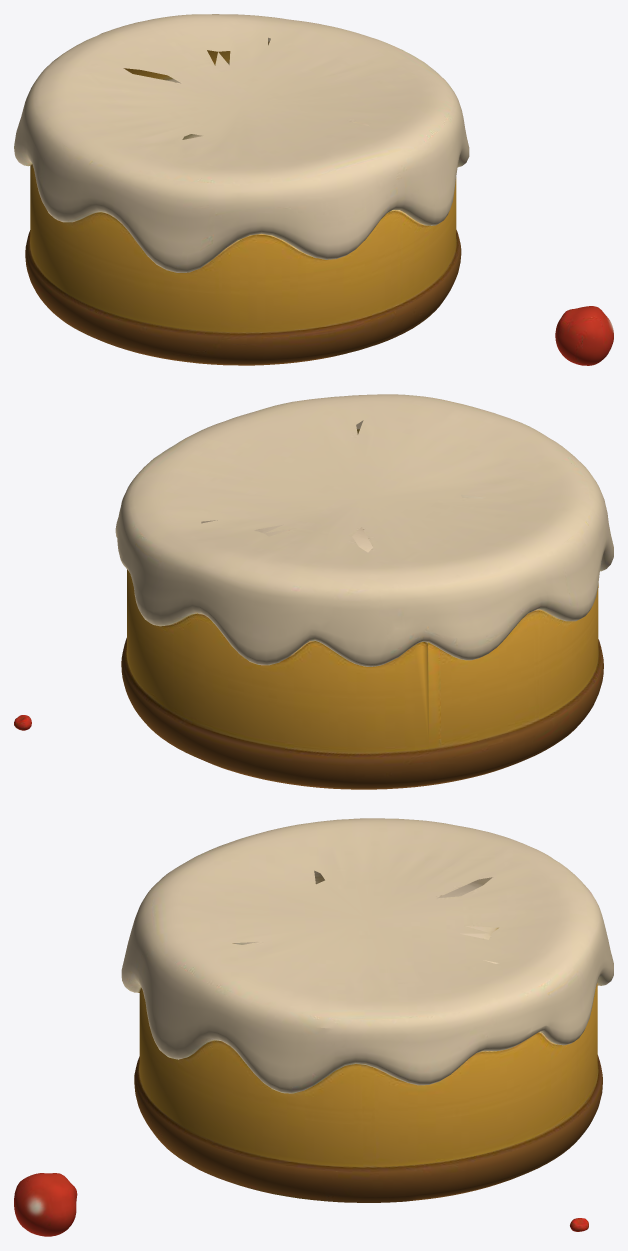
Rendered from env_nest_layer_cake_01.glb.
3 views of the same model, one above another, from view 1: azimuth 30°, elevation 25°; view 2: azimuth 150°, elevation 25°; view 3: azimuth 270°, elevation 25° (orthographic). The views are drawn at different scales.
Visible parts, largest first — view 1: env_nest_layer_cake_01; view 2: env_nest_layer_cake_01; view 3: env_nest_layer_cake_01.
Boxes of the visible parts, x1,y1,x2,y2 form: env_nest_layer_cake_01: (14, 14, 613, 365); env_nest_layer_cake_01: (14, 394, 613, 789); env_nest_layer_cake_01: (14, 818, 613, 1236).
Size of the model in its own units: 1.04 by 0.5 by 1.2.
1 material, 1 textured.
